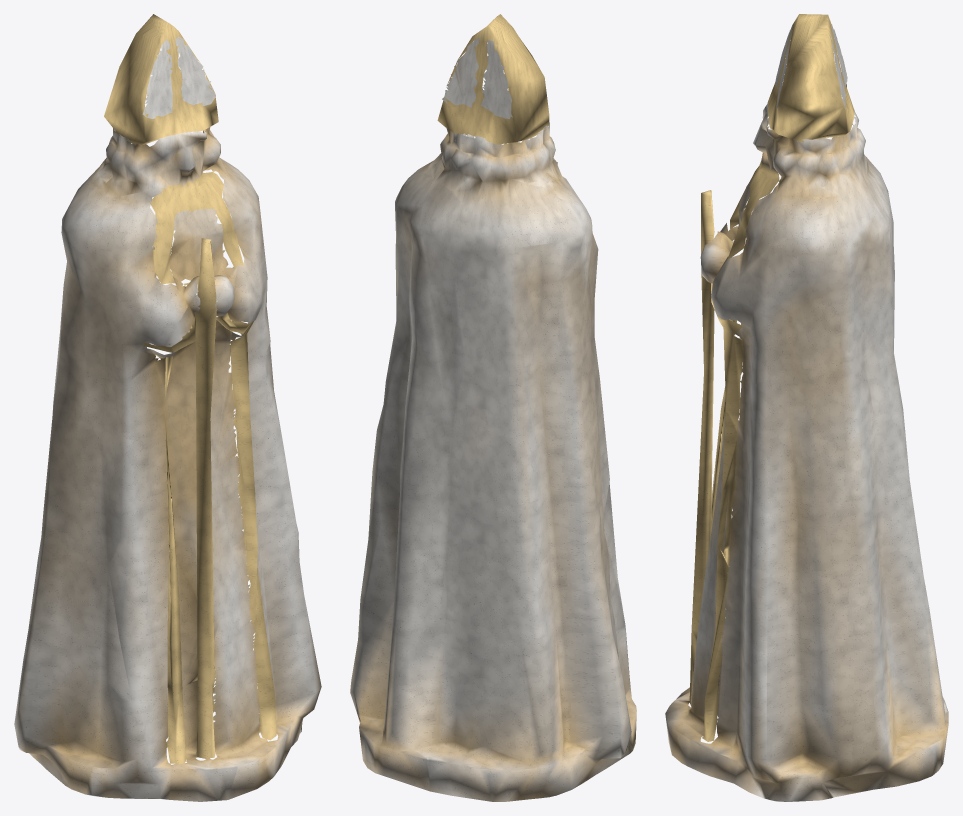
Rendered from Argent_Reliquary_White_Bishop.glb.
The picture shows the model from 3 angles, left to right: view 1: azimuth 30°, elevation 25°; view 2: azimuth 150°, elevation 25°; view 3: azimuth 270°, elevation 25°; orthographic projection.
Parts seen in each view (by area): view 1: Argent Reliquary – White Bishop; view 2: Argent Reliquary – White Bishop; view 3: Argent Reliquary – White Bishop.
Boxes of the visible parts, <box> form: Argent Reliquary – White Bishop: <box>14,14,321,801</box>; Argent Reliquary – White Bishop: <box>350,14,636,801</box>; Argent Reliquary – White Bishop: <box>665,14,948,801</box>.
Bounding box in the file's own units: 0.0311 × 0.0805 × 0.0282.
Materials: 2 (2 with a texture image).
